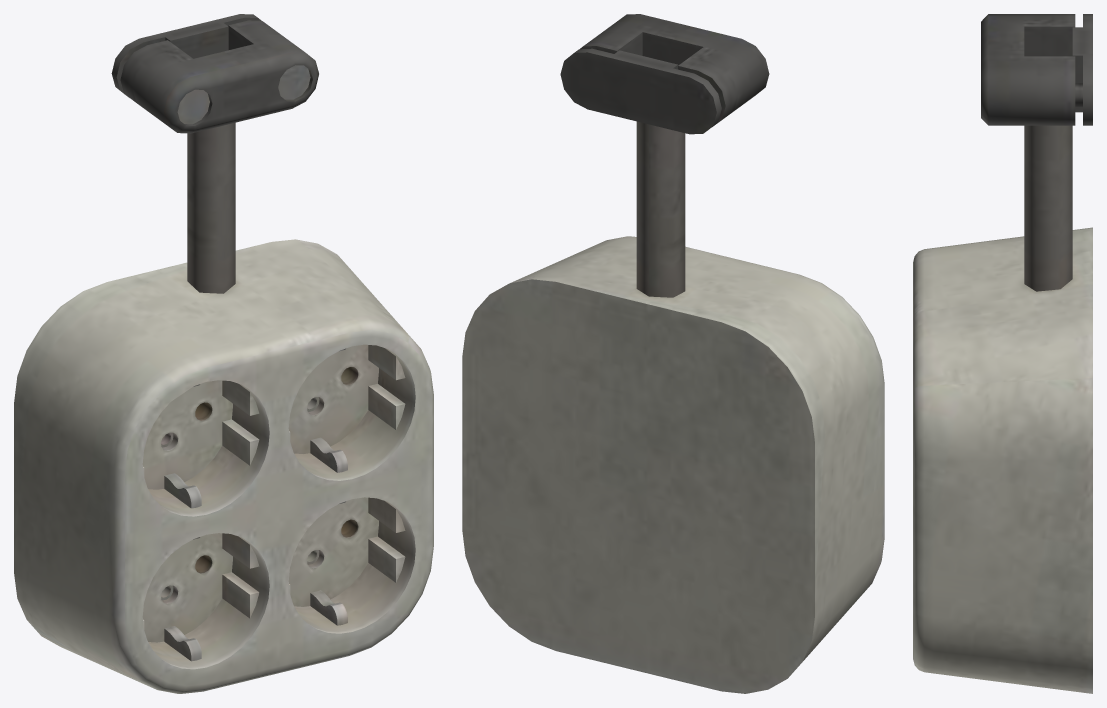
The model's file is kablo_plug_4x.gltf.
3 renders of one model, left to right at view 1: azimuth 30°, elevation 25°; view 2: azimuth 150°, elevation 25°; view 3: azimuth 270°, elevation 25°, orthographic.
Visible parts, largest first — view 1: kablo_plug_4x; view 2: kablo_plug_4x; view 3: kablo_plug_4x.
Part boxes in pixels (left/top/right/bottom): kablo_plug_4x: left=14, top=14, right=433, bottom=693; kablo_plug_4x: left=462, top=14, right=884, bottom=693; kablo_plug_4x: left=913, top=14, right=1092, bottom=693.
Bounding box in the file's own units: 0.0939 × 0.1542 × 0.0417.
Materials: 1 (1 with a texture image).
